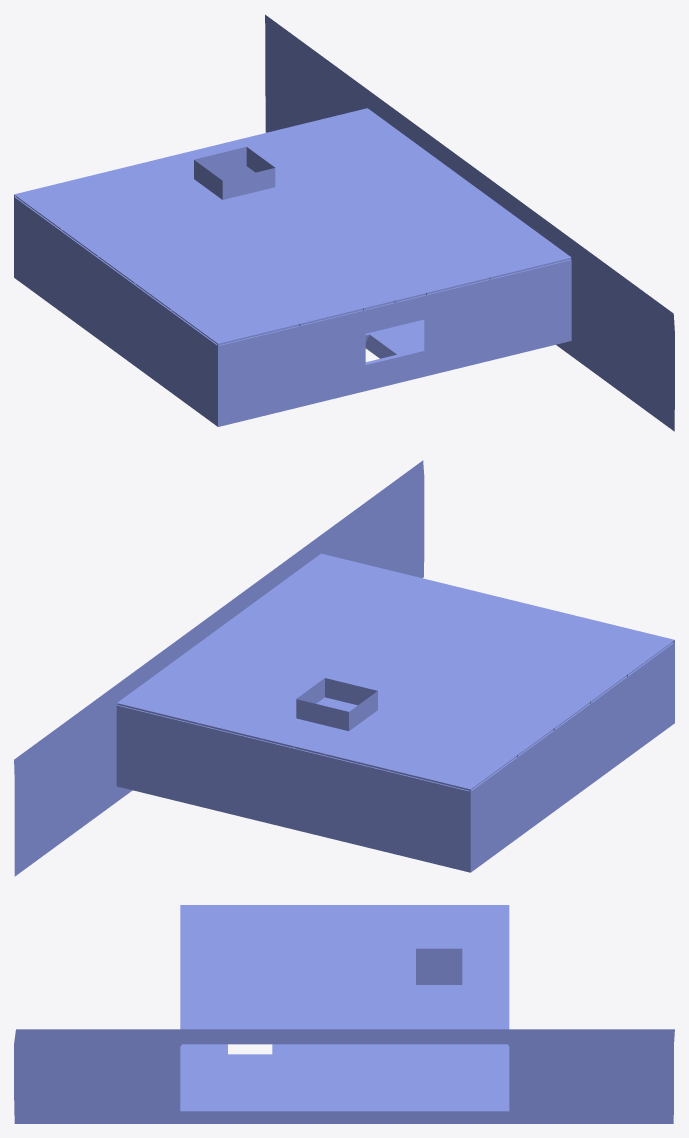
File: room 2.FBX
The picture shows the model from 3 angles, top to bottom: view 1: azimuth 30°, elevation 25°; view 2: azimuth 150°, elevation 25°; view 3: azimuth 270°, elevation 25°; orthographic projection. The views are drawn at different scales.
Parts seen in each view (by area): view 1: level 005; view 2: level 005; view 3: level 005.
Part boxes in pixels (x1,y1,x2,y2): level 005: [14, 14, 674, 431]; level 005: [14, 460, 674, 876]; level 005: [14, 905, 674, 1123].
Size of the model in its own units: 11.08 by 3.54 by 22.25.
